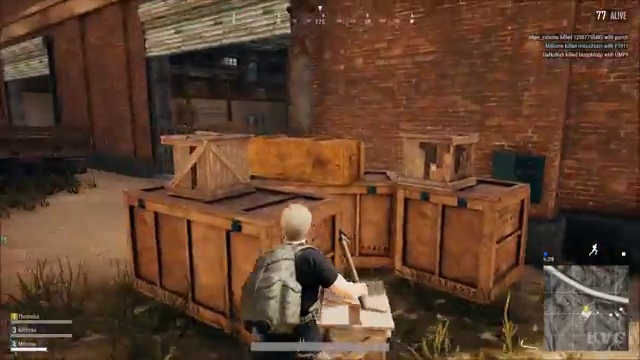Player: (220, 201, 387, 325)
